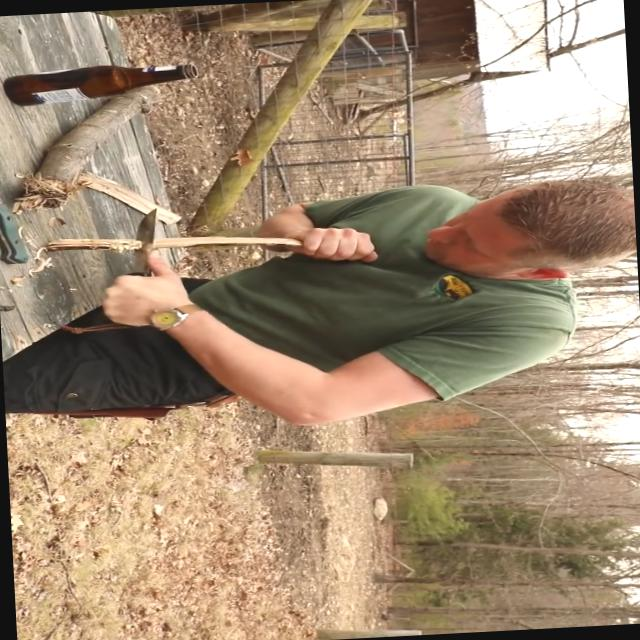knife: (92, 200, 194, 332)
